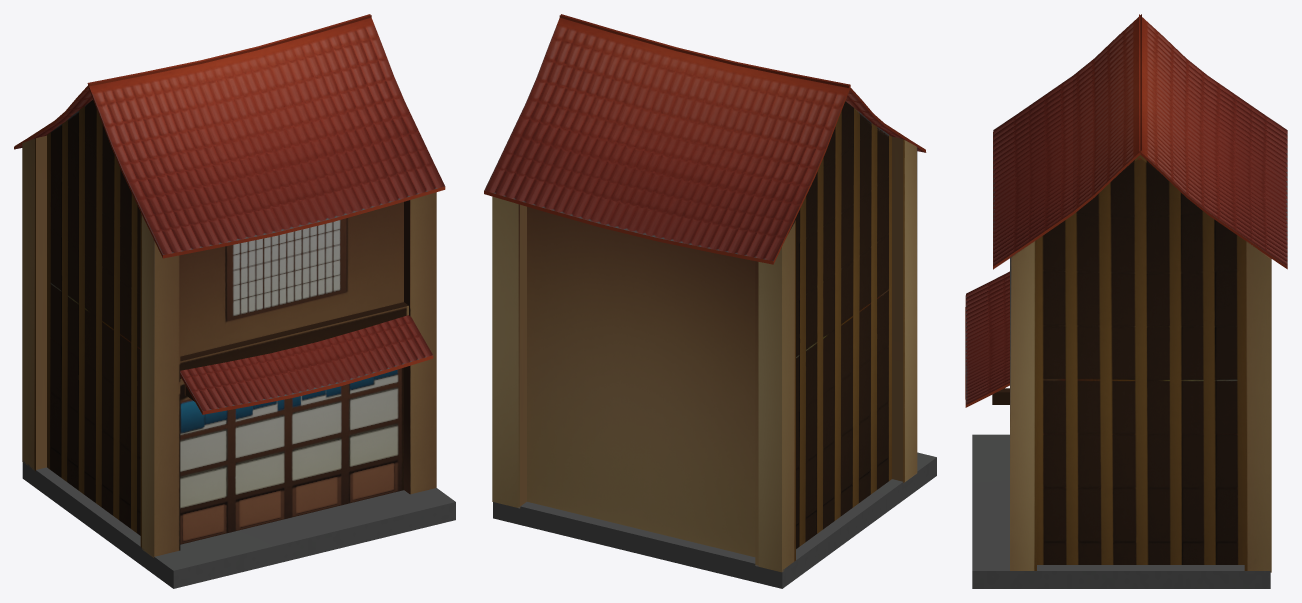
File: casasV3lp.fbx
3 renders of one model, left to right at view 1: azimuth 30°, elevation 25°; view 2: azimuth 150°, elevation 25°; view 3: azimuth 270°, elevation 25°, orthographic. The views are drawn at different scales.
Parts seen in each view (by area): view 1: casa; view 2: casa; view 3: casa.
Boxes of the visible parts, left/top/right/bottom form: casa: left=14, top=14, right=455, bottom=588; casa: left=484, top=14, right=936, bottom=588; casa: left=965, top=14, right=1287, bottom=588.
Size of the model in its own units: 100 by 150 by 100.
1 material, 1 textured.
